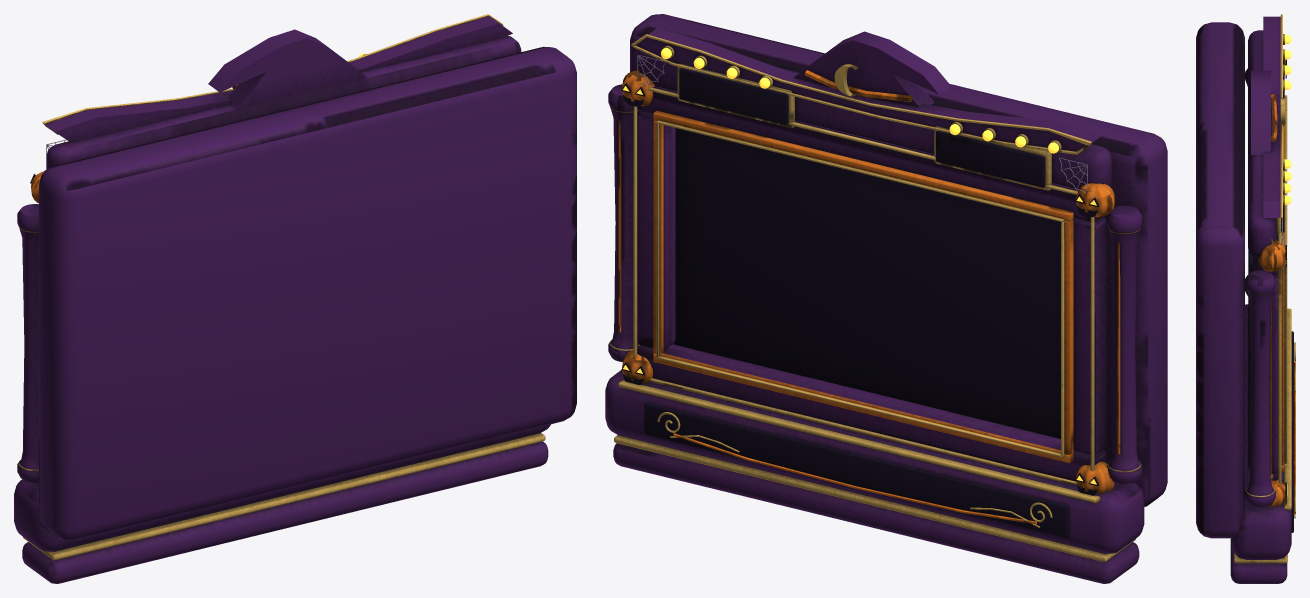
3 views of the same model, side by side, from view 1: azimuth 30°, elevation 25°; view 2: azimuth 150°, elevation 25°; view 3: azimuth 270°, elevation 25° (orthographic). The views are drawn at different scales.
Visible parts, largest first — view 1: Deep_plum_glossy_enamel, Warm_brushed_gold; view 2: Deep_plum_glossy_enamel, Dark_purple_plates, Warm_brushed_gold, Pumpkin_orange_enamel, glow_lantern_bulbs_and_pumpkin_eyes; view 3: Deep_plum_glossy_enamel, Warm_brushed_gold, Pumpkin_orange_enamel, Dark_purple_plates, glow_lantern_bulbs_and_pumpkin_eyes.
Boxes of the visible parts, box(x1,y1,x2,y2) form: Deep_plum_glossy_enamel: box(14, 16, 576, 583); Warm_brushed_gold: box(18, 14, 545, 560); Deep_plum_glossy_enamel: box(605, 14, 1167, 583); Dark_purple_plates: box(621, 68, 1099, 537); Warm_brushed_gold: box(609, 34, 1141, 561); Pumpkin_orange_enamel: box(618, 70, 1120, 524); glow_lantern_bulbs_and_pumpkin_eyes: box(623, 47, 1096, 484); Deep_plum_glossy_enamel: box(1196, 16, 1291, 583); Warm_brushed_gold: box(1234, 14, 1295, 563); Pumpkin_orange_enamel: box(1258, 60, 1295, 514); Dark_purple_plates: box(1248, 59, 1293, 532); glow_lantern_bulbs_and_pumpkin_eyes: box(1285, 34, 1291, 495).
Bounding box in the file's own units: 10.8 × 9.3 × 2.08.
6 materials, 5 textured.
